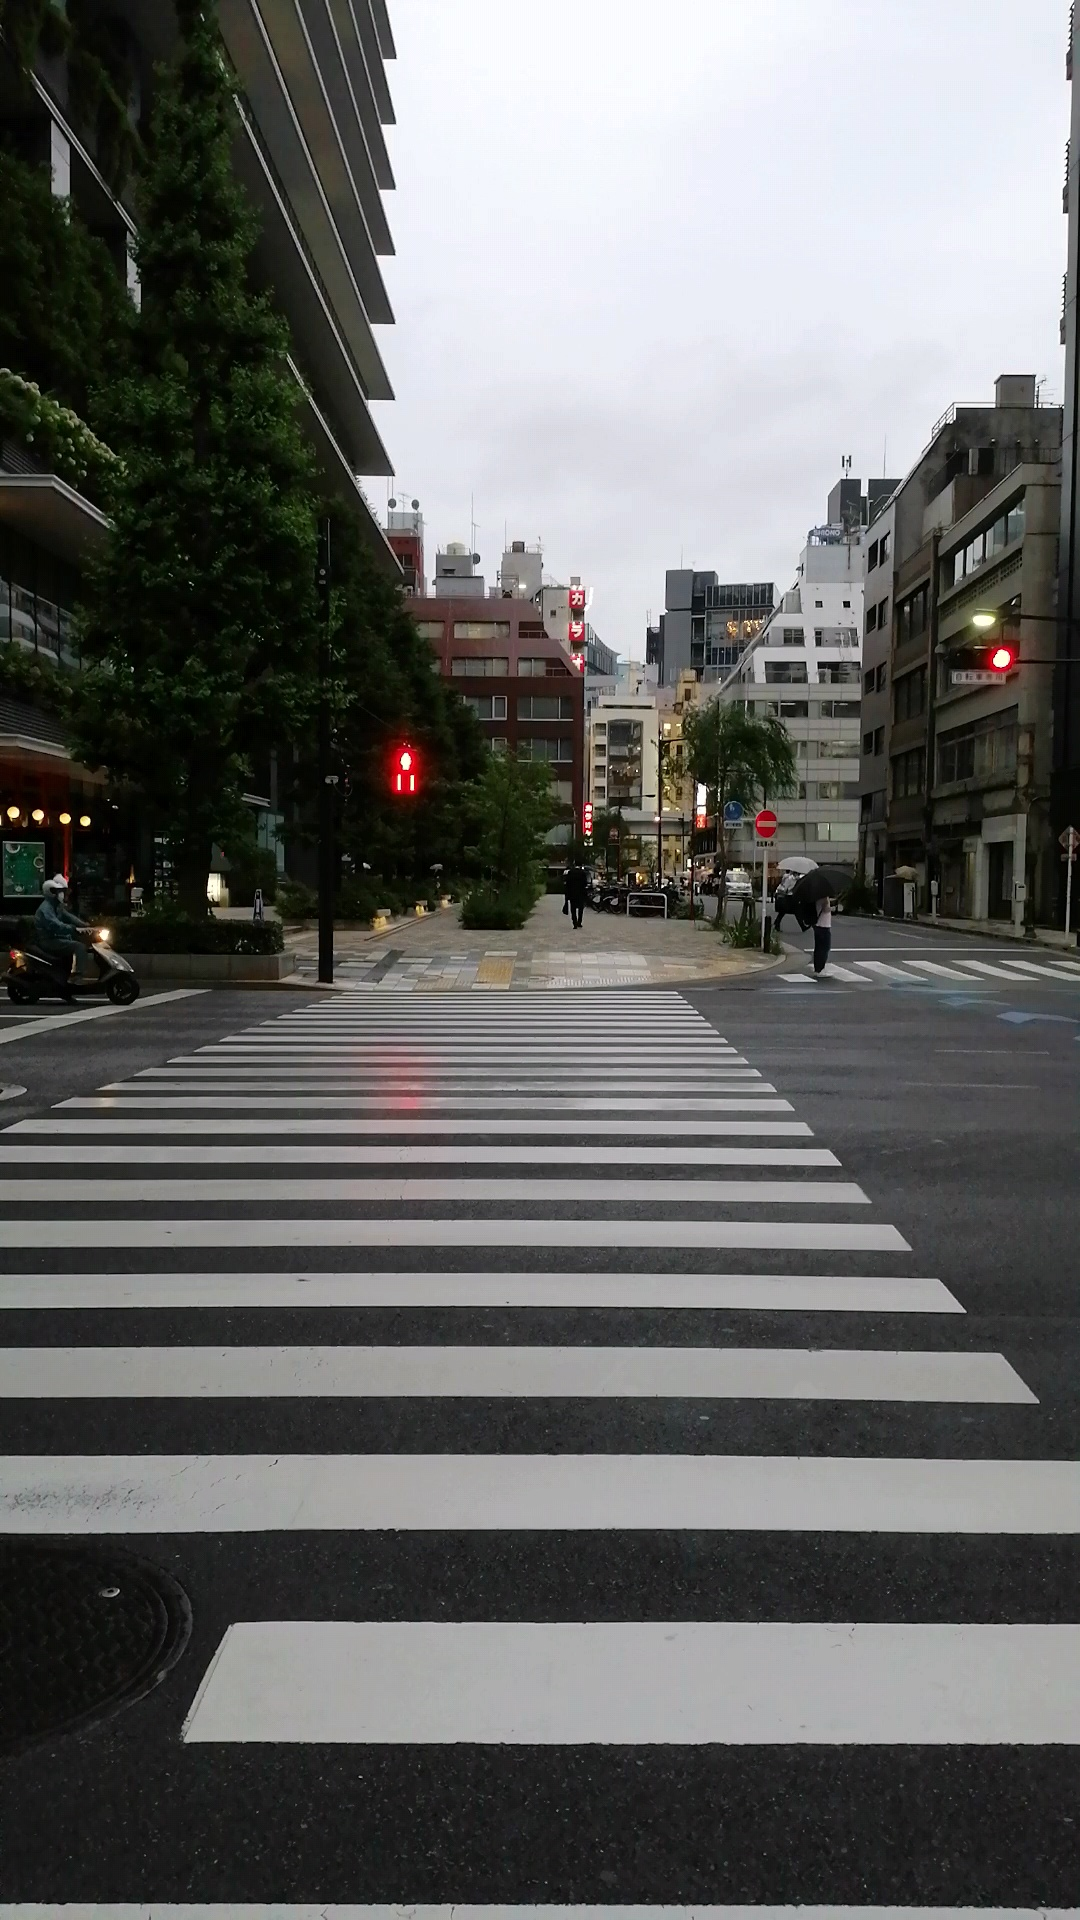red: (388, 741, 422, 799)
